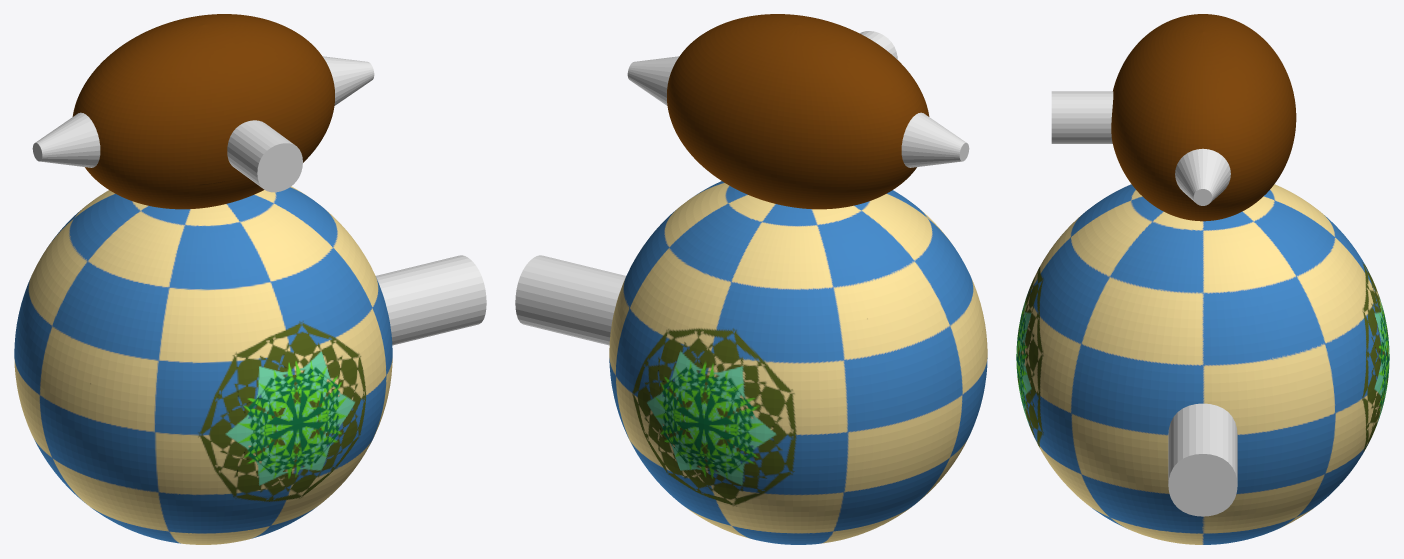
Rendered from BOD0_BMC13_BCC8_BPT4_FRC10_HEA1_HMC3_HCC1_HPT0_ELT2_ERT2_ELL2_ERL2_AP2_AAL0_AAR2_BEK1.fbx.
The picture shows the model from 3 angles, left to right: view 1: azimuth 30°, elevation 25°; view 2: azimuth 150°, elevation 25°; view 3: azimuth 270°, elevation 25°; orthographic projection.
Parts seen in each view (by area): view 1: Body, Arm, Beak, Ear, Ear.001; view 2: Body, Arm, Ear, Ear.001; view 3: Body, Arm, Beak, Ear.001.
Boxes of the visible parts, x1,y1,x2,y2 form: Body: [14, 14, 392, 544]; Arm: [376, 255, 486, 345]; Beak: [227, 120, 302, 192]; Ear: [32, 112, 100, 167]; Ear.001: [322, 56, 374, 105]; Body: [609, 14, 987, 544]; Arm: [515, 255, 625, 345]; Ear: [901, 112, 969, 167]; Ear.001: [627, 56, 679, 105]; Body: [1016, 14, 1389, 544]; Arm: [1168, 403, 1237, 516]; Beak: [1051, 91, 1113, 143]; Ear.001: [1175, 148, 1230, 205].
Bounding box in the file's own units: 65 × 72.41 × 49.36.
Materials: 1 (1 with a texture image).
